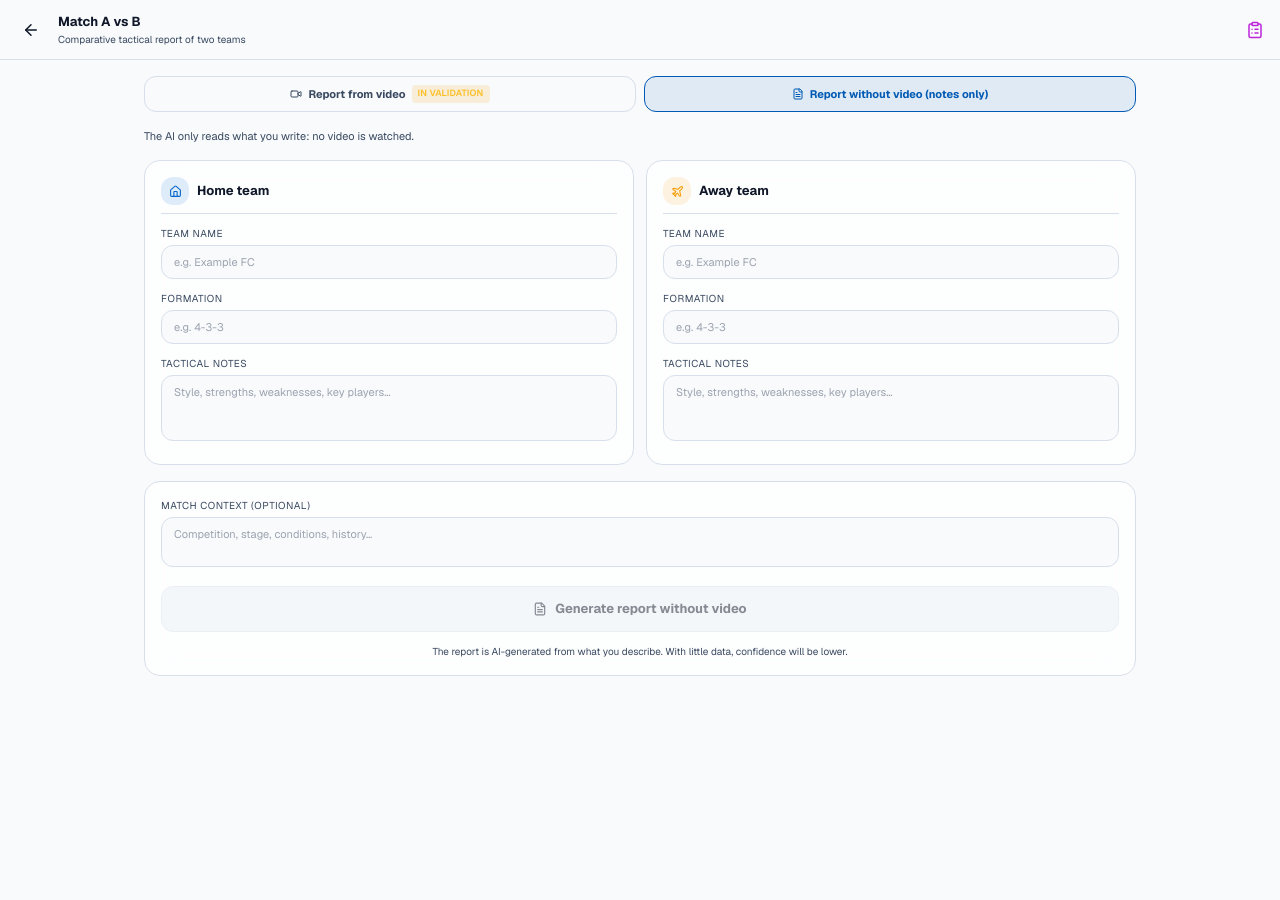
Test case: MatchReportPage · default build (video analysis in validation) › a notes-only mock_fallback shows the fallback banner (never looks like an analysis)
Type "A" into the field with placeholder "e.g. Example FC" below "Home team" at (389, 262), box [161,245,617,279]
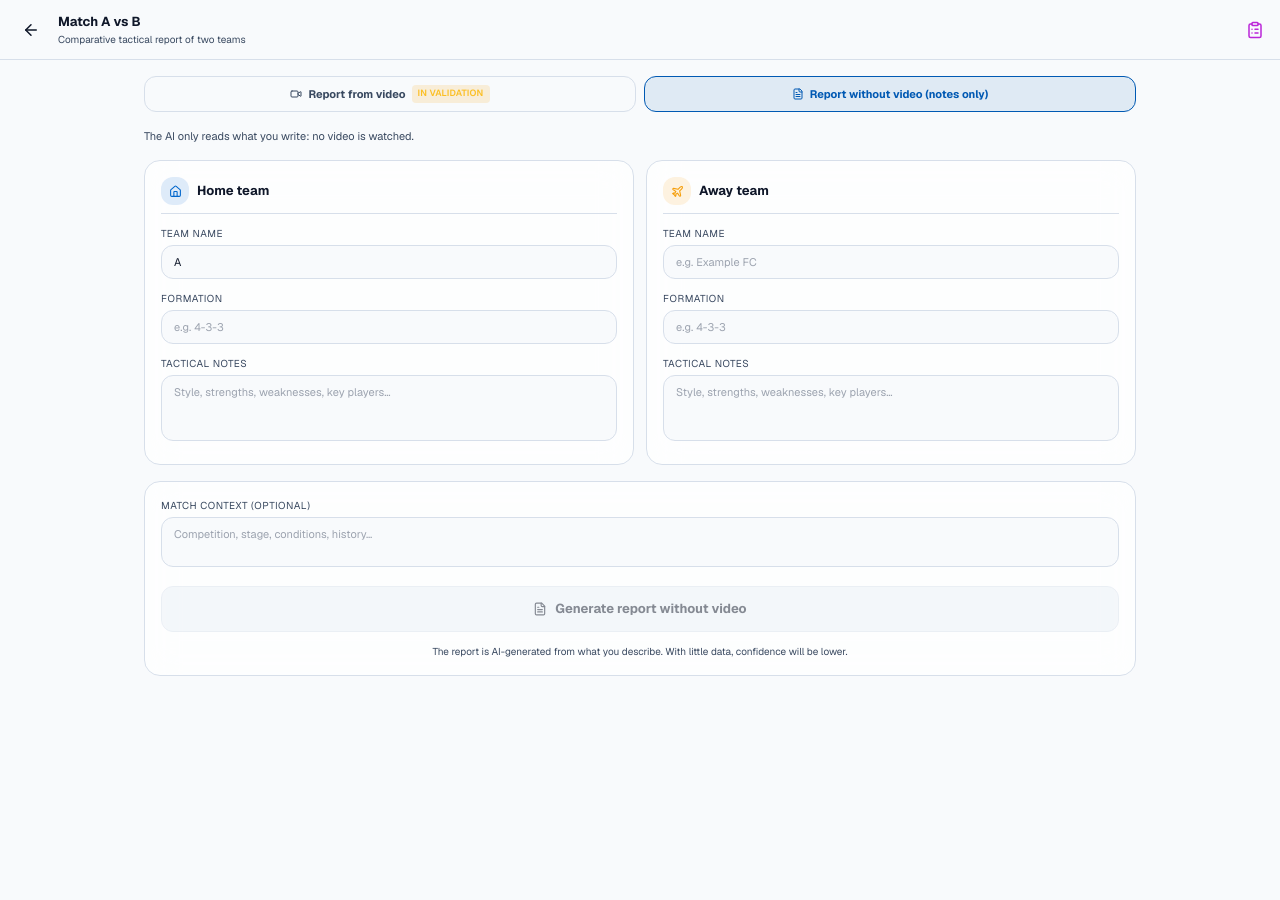
Type "B" into the field with placeholder "e.g. Example FC" at (891, 262), box [663,245,1119,279]
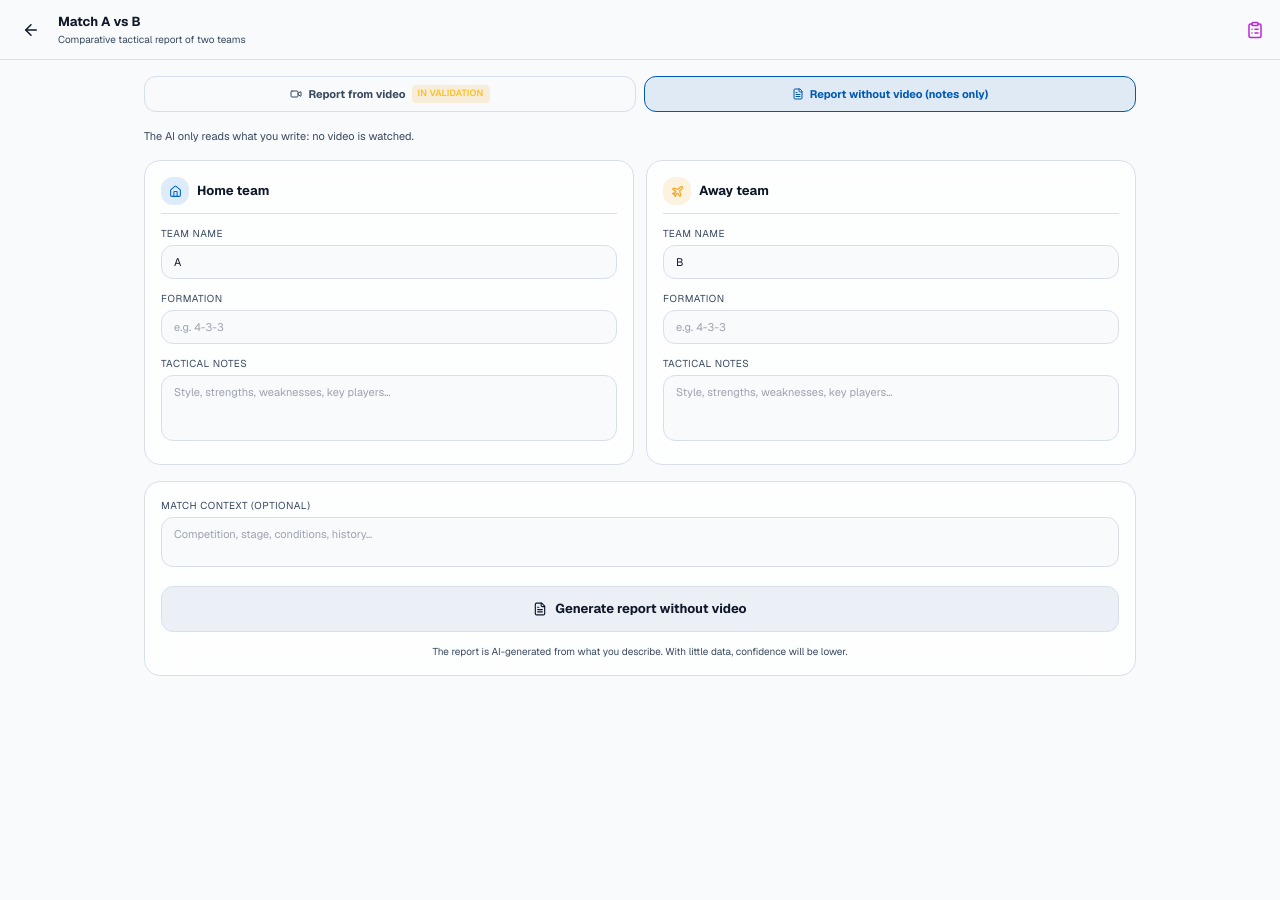
Click the button "Generate report without video" at (640, 609), box [161,586,1119,632]
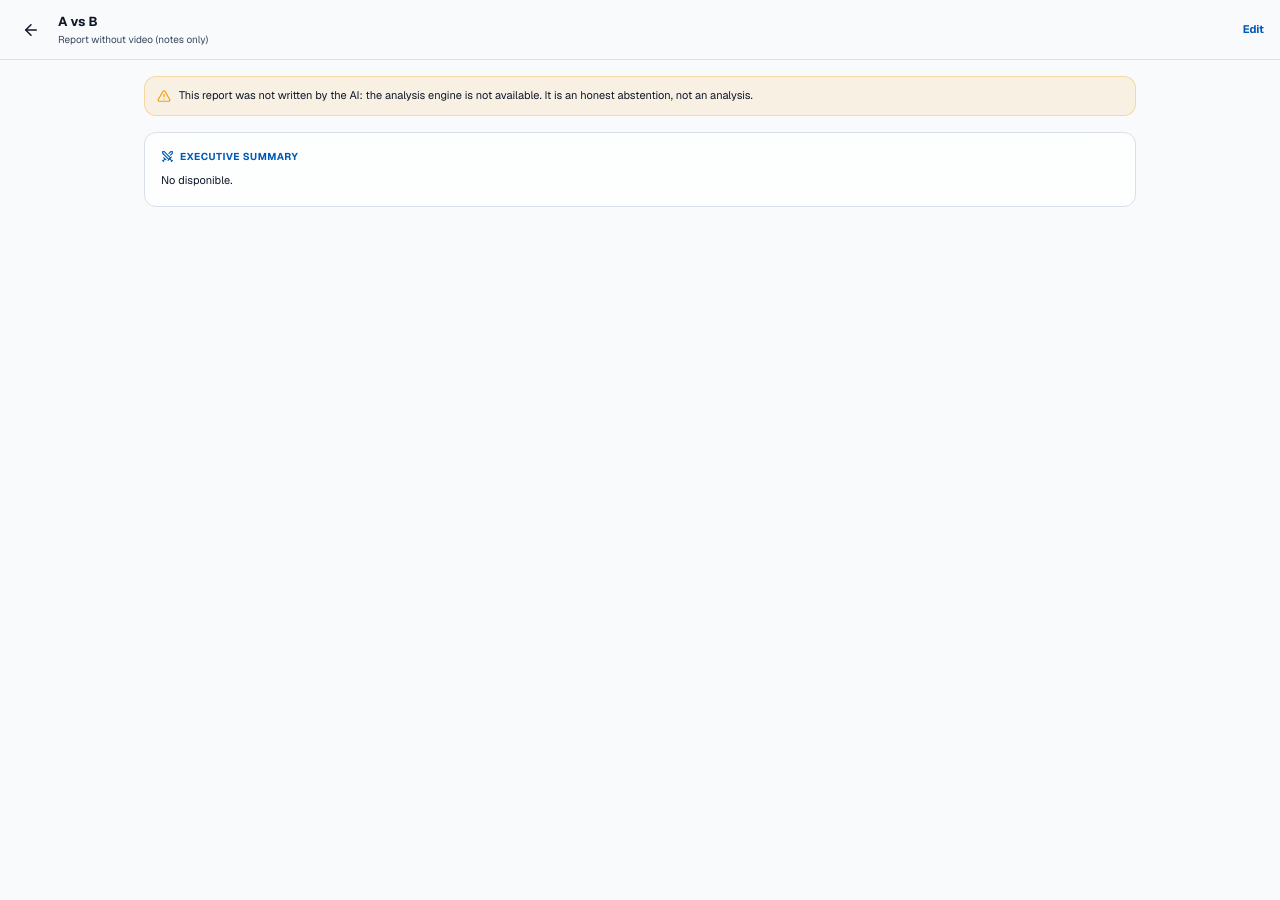
Now the message with test id "report-fallback-banner" shows "This report was not written by the AI: the analysis engine is not available. It is an honest abstention, not an analysis.", box [179,88,753,102]
